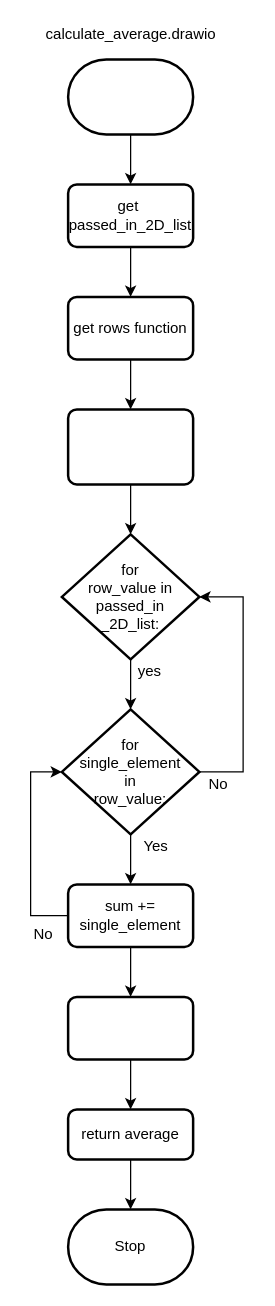
Some shapes in this 275 by 1306 pixel diagram are drawn without their labels. The shapes that lost their labels are listed below. From the top down, each one's centre as x and y in pixels, then its label:
(x=130, y=96): Start
(x=130, y=446): get columns function
(x=130, y=1027): average = sum / (rows * columns)
